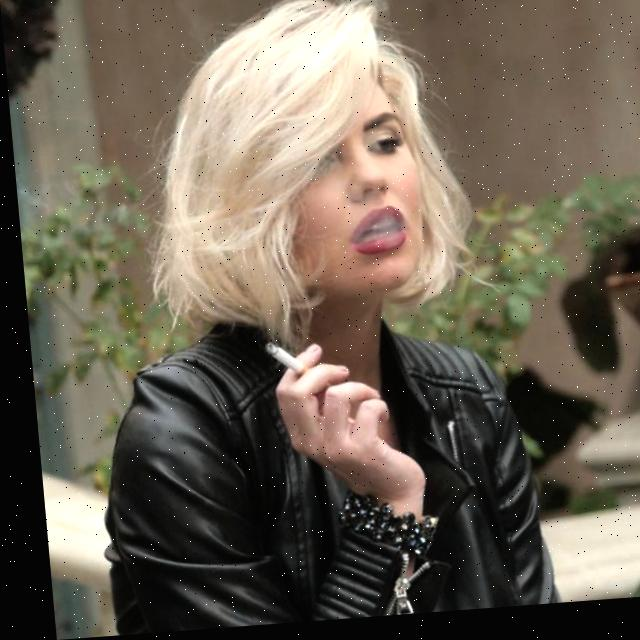cigarette: (258, 345, 290, 370)
